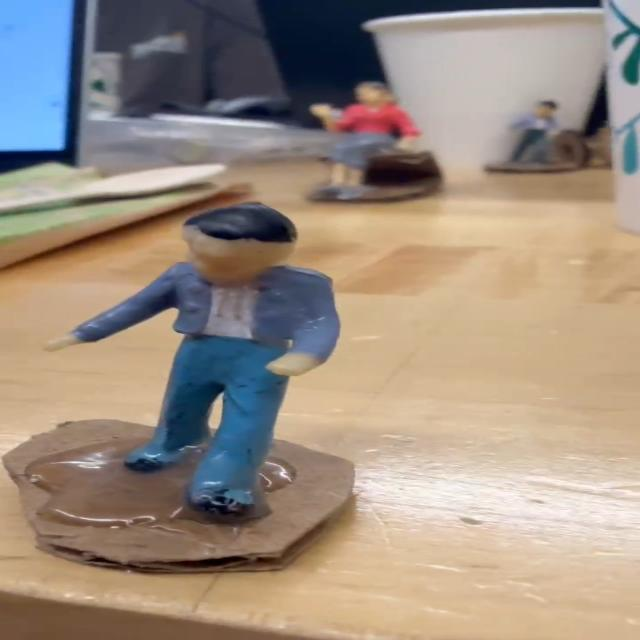Authorized: (50, 182, 394, 568)
